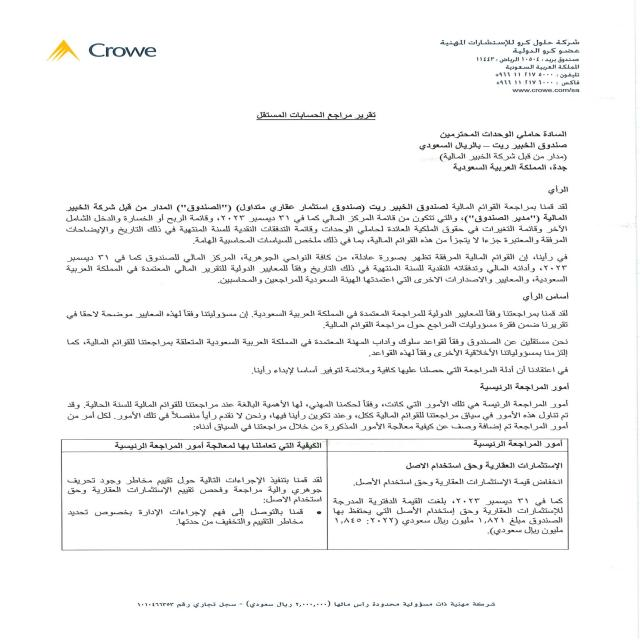auditor_report: (230, 108, 382, 130)
